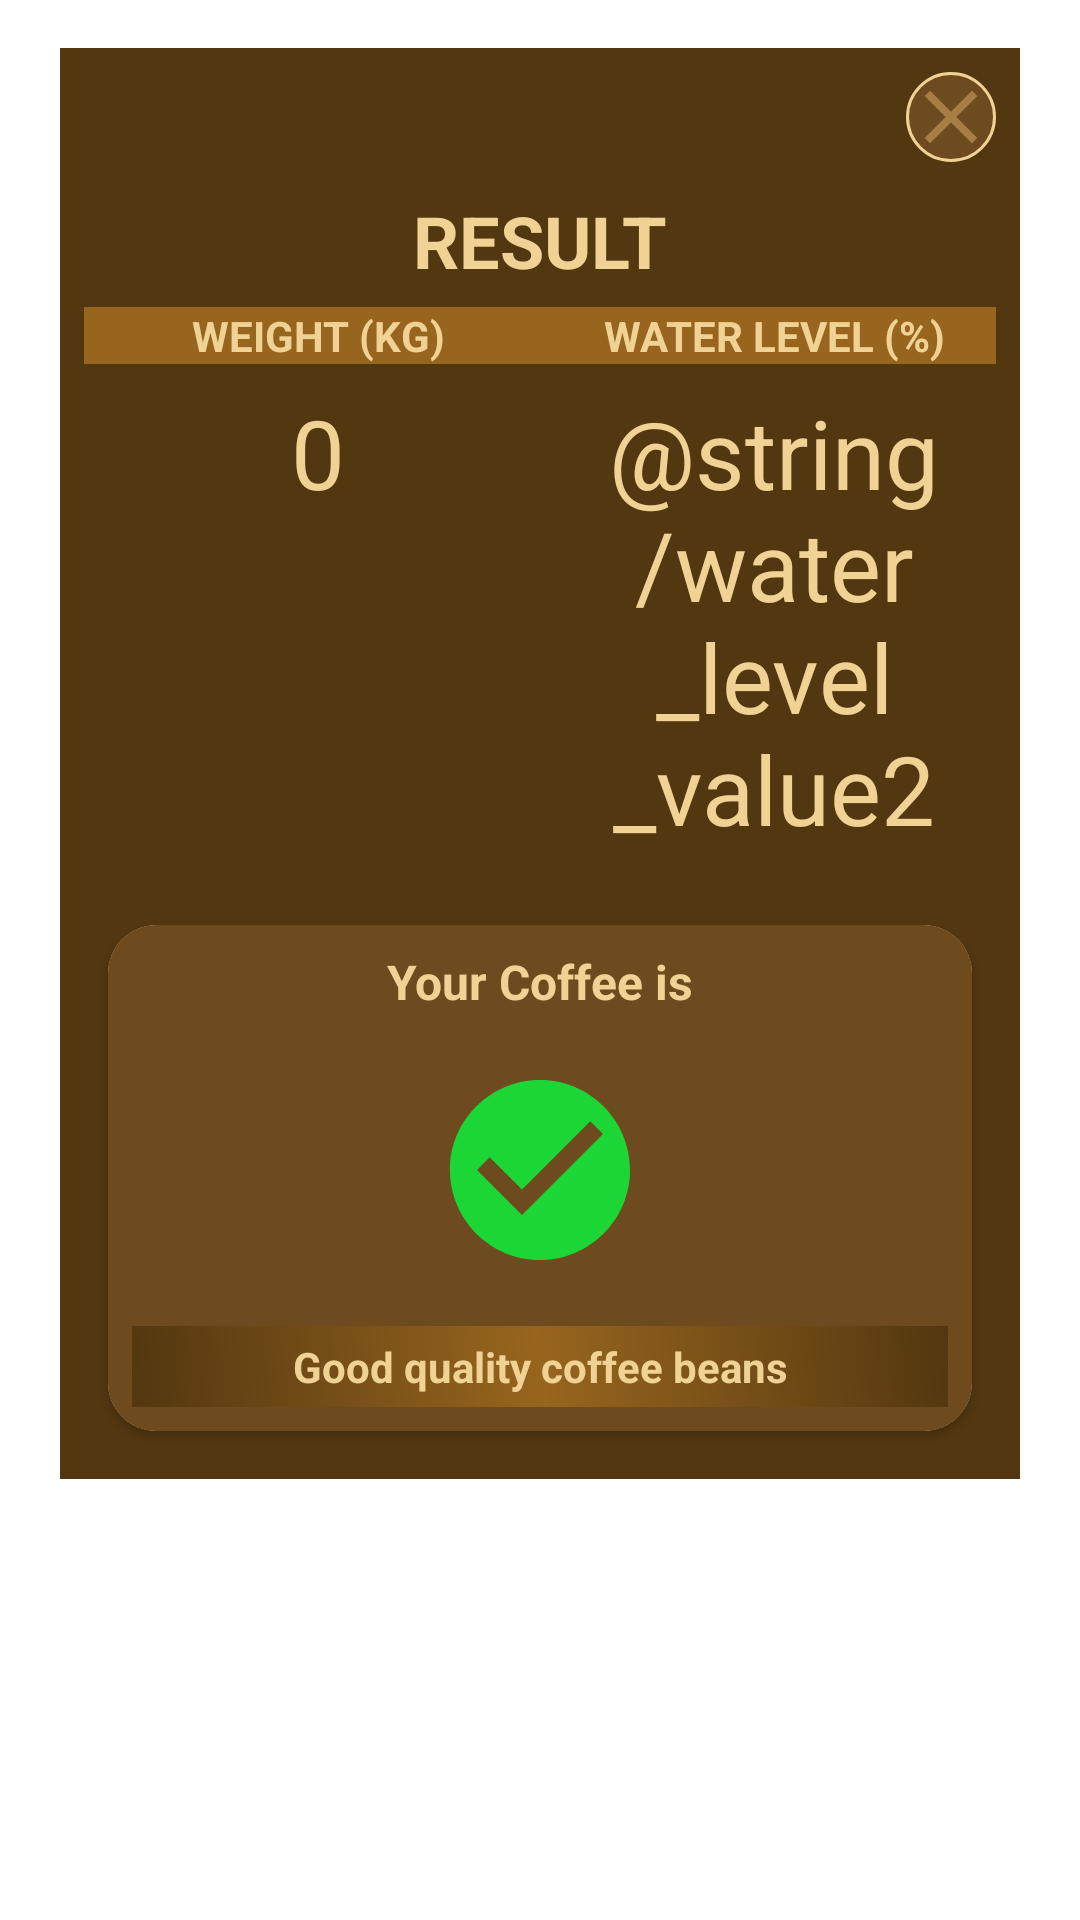

Icons on this 1080px×1920px Android screen, each with the point to tap as point (x, y):
close: point (951, 117)
Icon Result: point (540, 1170)
